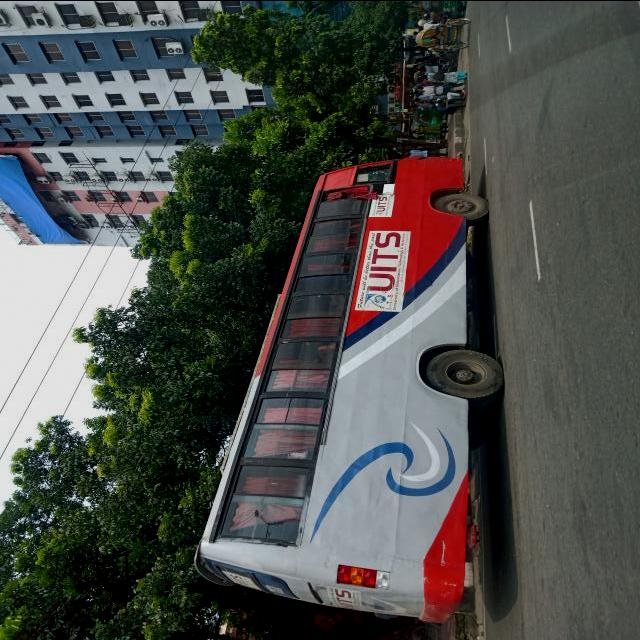bus: (193, 157, 506, 625)
